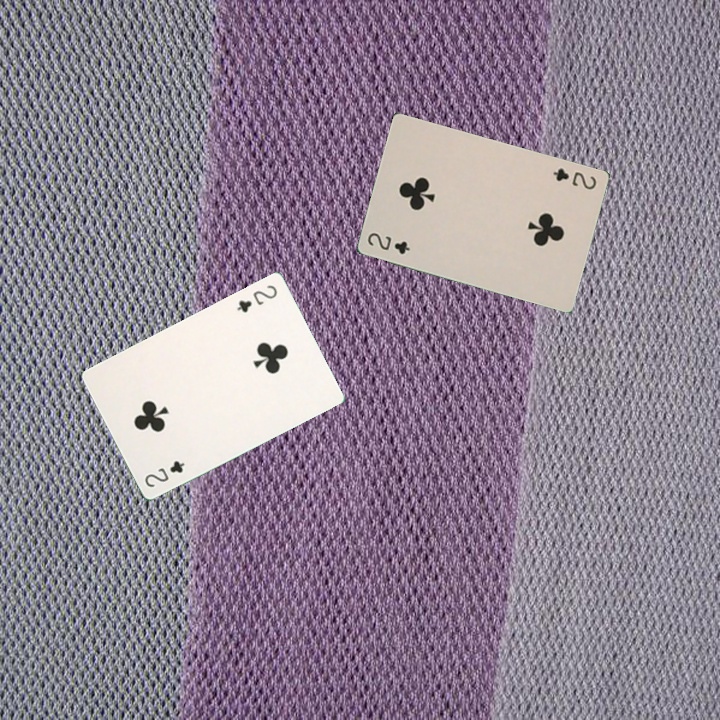2c: (233, 281, 280, 315), (140, 456, 187, 490), (363, 228, 413, 257), (549, 164, 599, 192)
